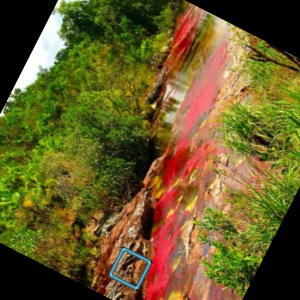square: (108, 245, 154, 292)
